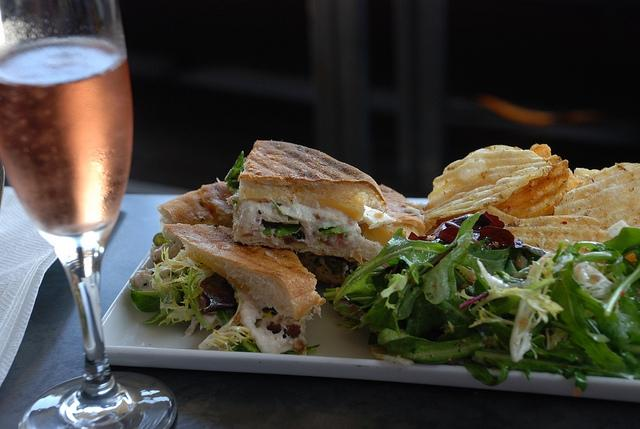lettuce: (334, 212, 481, 306), (546, 252, 626, 372), (419, 231, 472, 305), (378, 328, 486, 364), (437, 260, 476, 324), (405, 290, 445, 343), (468, 309, 513, 350), (468, 237, 512, 275), (601, 227, 640, 255), (323, 285, 388, 301), (127, 283, 160, 313), (224, 150, 246, 190), (614, 312, 637, 346), (604, 247, 628, 277), (262, 219, 302, 237), (530, 312, 554, 337), (157, 286, 186, 306), (545, 328, 569, 350), (160, 297, 185, 315), (496, 270, 526, 283), (232, 340, 261, 352), (189, 272, 205, 291), (389, 291, 405, 304), (319, 228, 350, 234), (192, 286, 203, 299), (468, 285, 477, 297)
